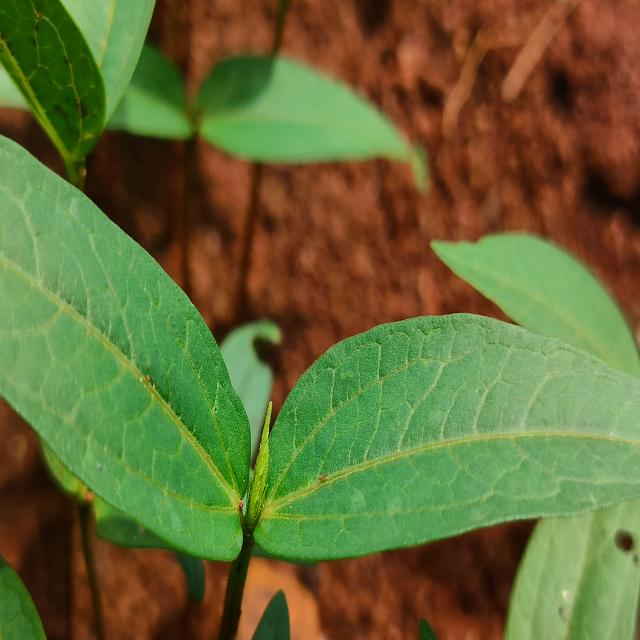Black gram_healthy: (0, 136, 247, 559), (257, 310, 640, 557), (426, 218, 640, 377), (197, 53, 426, 192), (507, 478, 640, 640)
